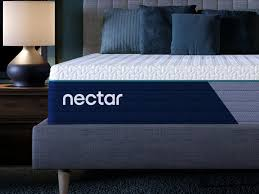bed-matress: (46, 51, 259, 124)
